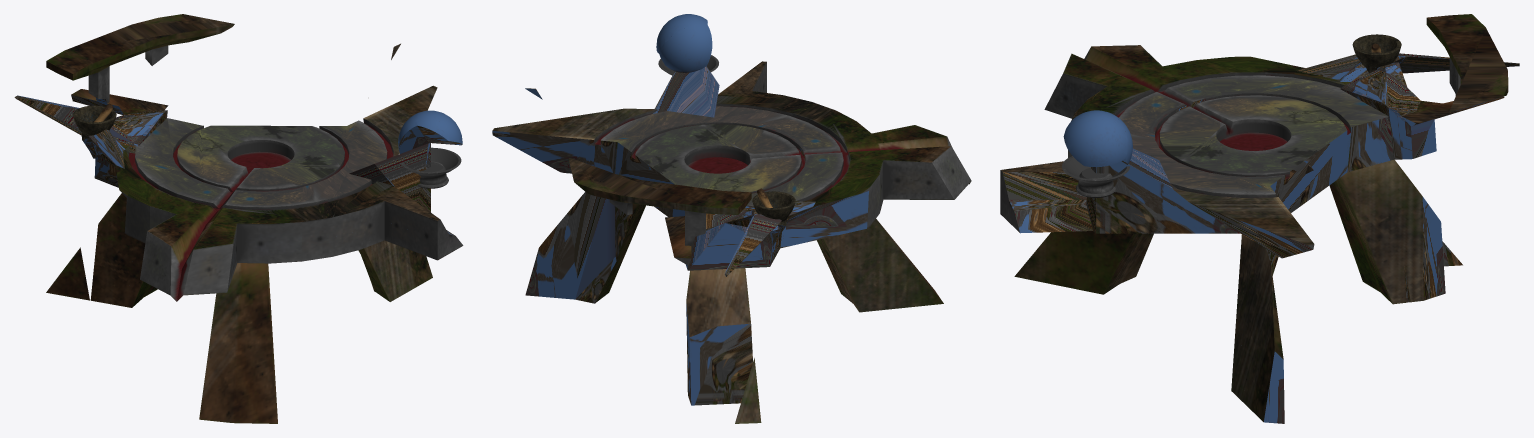
Rendered from wizard_table3 roto.fbx.
3 renders of one model, left to right at view 1: azimuth 30°, elevation 25°; view 2: azimuth 150°, elevation 25°; view 3: azimuth 270°, elevation 25°, orthographic. The views are drawn at different scales.
Parts seen in each view (by area): view 1: AlchemyTable_cell.037, AlchemyTable_cell.047, AlchemyTable_cell.049, AlchemyTable_cell.011, AlchemyTable_cell.017, AlchemyTable_cell.029, AlchemyTable_cell.056, AlchemyTable_cell.007, AlchemyTable_cell.030, AlchemyTable_cell.024, AlchemyTable_cell.063, AlchemyTable_cell.067 (+7 smaller); view 2: AlchemyTable_cell.037, AlchemyTable_cell.011, AlchemyTable_cell.056, AlchemyTable_cell.049, AlchemyTable_cell.047, AlchemyTable_cell.024, AlchemyTable_cell.017, AlchemyTable_cell.029, AlchemyTable_cell.007, AlchemyTable_cell.055, AlchemyTable_cell.001, AlchemyTable_cell.062 (+4 smaller); view 3: AlchemyTable_cell.037, AlchemyTable_cell.047, AlchemyTable_cell.049, AlchemyTable_cell.011, AlchemyTable_cell.007, AlchemyTable_cell.056, AlchemyTable_cell.024, AlchemyTable_cell.017, AlchemyTable_cell.063, AlchemyTable_cell.033, AlchemyTable_cell.030, AlchemyTable_cell.029 (+5 smaller).
Part boxes in pixels (x1=…): AlchemyTable_cell.037: x1=140, y1=153, x2=346, y2=423; AlchemyTable_cell.047: x1=124, y1=118, x2=202, y2=307; AlchemyTable_cell.049: x1=199, y1=125, x2=360, y2=253; AlchemyTable_cell.011: x1=90, y1=110, x2=167, y2=306; AlchemyTable_cell.017: x1=66, y1=14, x2=234, y2=114; AlchemyTable_cell.029: x1=319, y1=173, x2=448, y2=240; AlchemyTable_cell.056: x1=329, y1=85, x2=437, y2=173; AlchemyTable_cell.007: x1=349, y1=143, x2=461, y2=212; AlchemyTable_cell.030: x1=312, y1=220, x2=463, y2=260; AlchemyTable_cell.024: x1=368, y1=240, x2=432, y2=290; AlchemyTable_cell.063: x1=238, y1=347, x2=277, y2=423; AlchemyTable_cell.067: x1=58, y1=50, x2=107, y2=98; AlchemyTable_cell.037: x1=682, y1=105, x2=971, y2=312; AlchemyTable_cell.011: x1=685, y1=205, x2=781, y2=405; AlchemyTable_cell.056: x1=492, y1=108, x2=714, y2=173; AlchemyTable_cell.049: x1=614, y1=135, x2=807, y2=260; AlchemyTable_cell.047: x1=713, y1=167, x2=879, y2=248; AlchemyTable_cell.024: x1=525, y1=192, x2=615, y2=299; AlchemyTable_cell.017: x1=568, y1=158, x2=705, y2=265; AlchemyTable_cell.029: x1=714, y1=61, x2=821, y2=118; AlchemyTable_cell.007: x1=652, y1=55, x2=719, y2=117; AlchemyTable_cell.055: x1=659, y1=24, x2=712, y2=72; AlchemyTable_cell.001: x1=725, y1=214, x2=781, y2=276; AlchemyTable_cell.062: x1=575, y1=234, x2=633, y2=303; AlchemyTable_cell.037: x1=1044, y1=45, x2=1221, y2=289; AlchemyTable_cell.047: x1=1196, y1=57, x2=1407, y2=304; AlchemyTable_cell.049: x1=1218, y1=93, x2=1351, y2=275; AlchemyTable_cell.011: x1=1340, y1=69, x2=1445, y2=302; AlchemyTable_cell.007: x1=1061, y1=148, x2=1240, y2=233; AlchemyTable_cell.056: x1=1159, y1=159, x2=1314, y2=258; AlchemyTable_cell.024: x1=1239, y1=245, x2=1284, y2=423; AlchemyTable_cell.017: x1=1402, y1=28, x2=1508, y2=126; AlchemyTable_cell.063: x1=1014, y1=231, x2=1113, y2=294; AlchemyTable_cell.033: x1=1063, y1=110, x2=1127, y2=167; AlchemyTable_cell.030: x1=1000, y1=157, x2=1092, y2=233; AlchemyTable_cell.029: x1=1000, y1=148, x2=1160, y2=200.
Bounding box in the file's own units: 17970 × 10739 × 18957.
